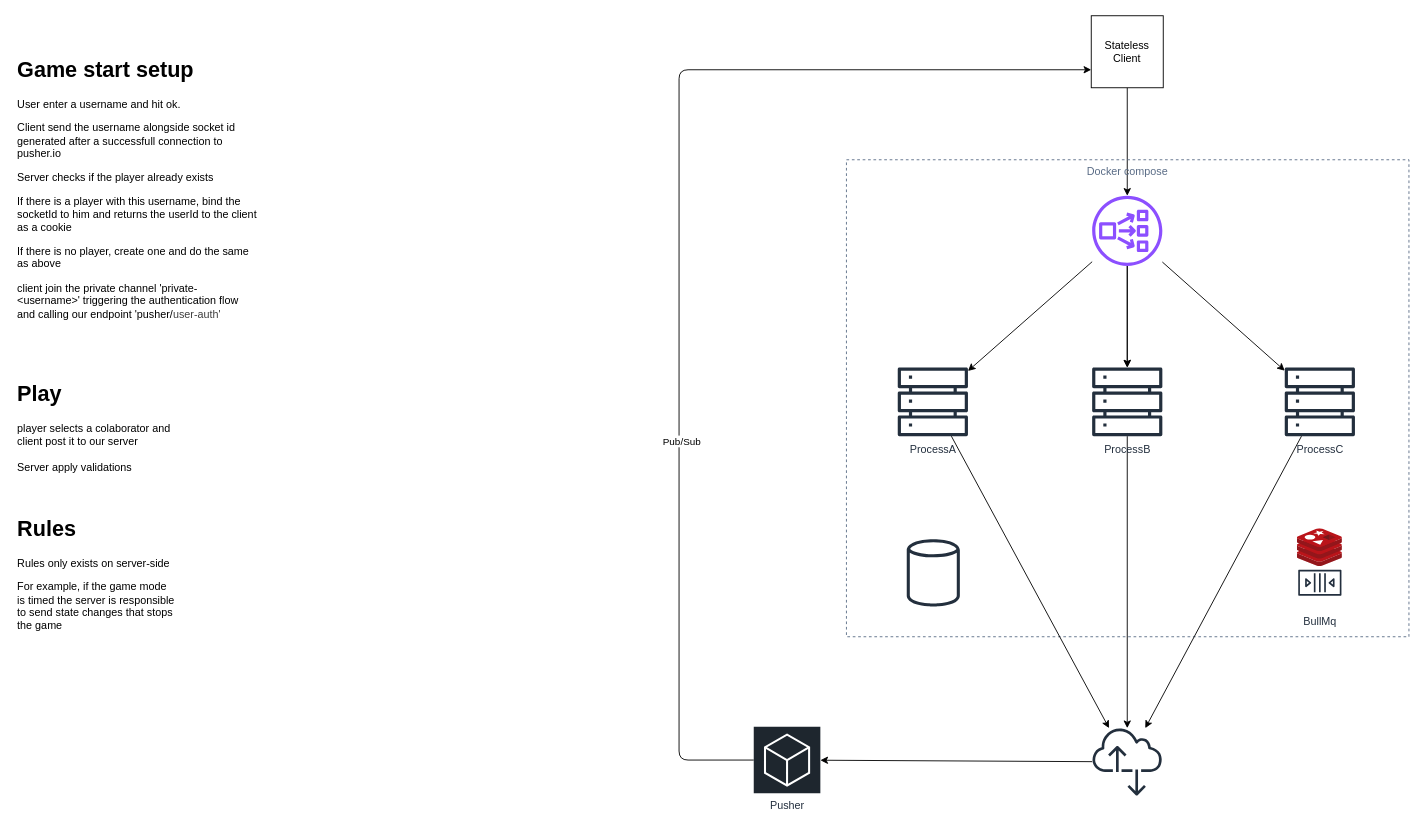
Image size: 1425x832. Some labels were removed from this diagram. The box of each missing label's shape, as (x1, y1, x2, y2) in pixels:
PM2: (1092, 195, 1162, 266)
Postgres: (906, 537, 959, 608)
Public network: (1092, 726, 1162, 796)
